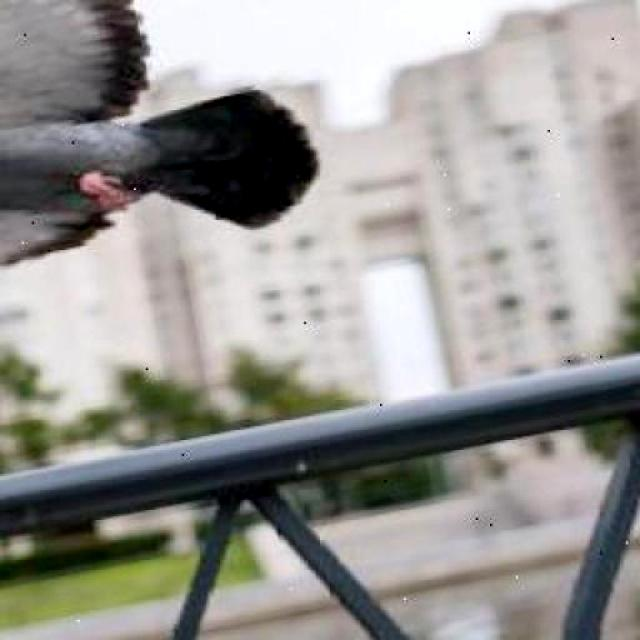airplane: (0, 0, 334, 334)
